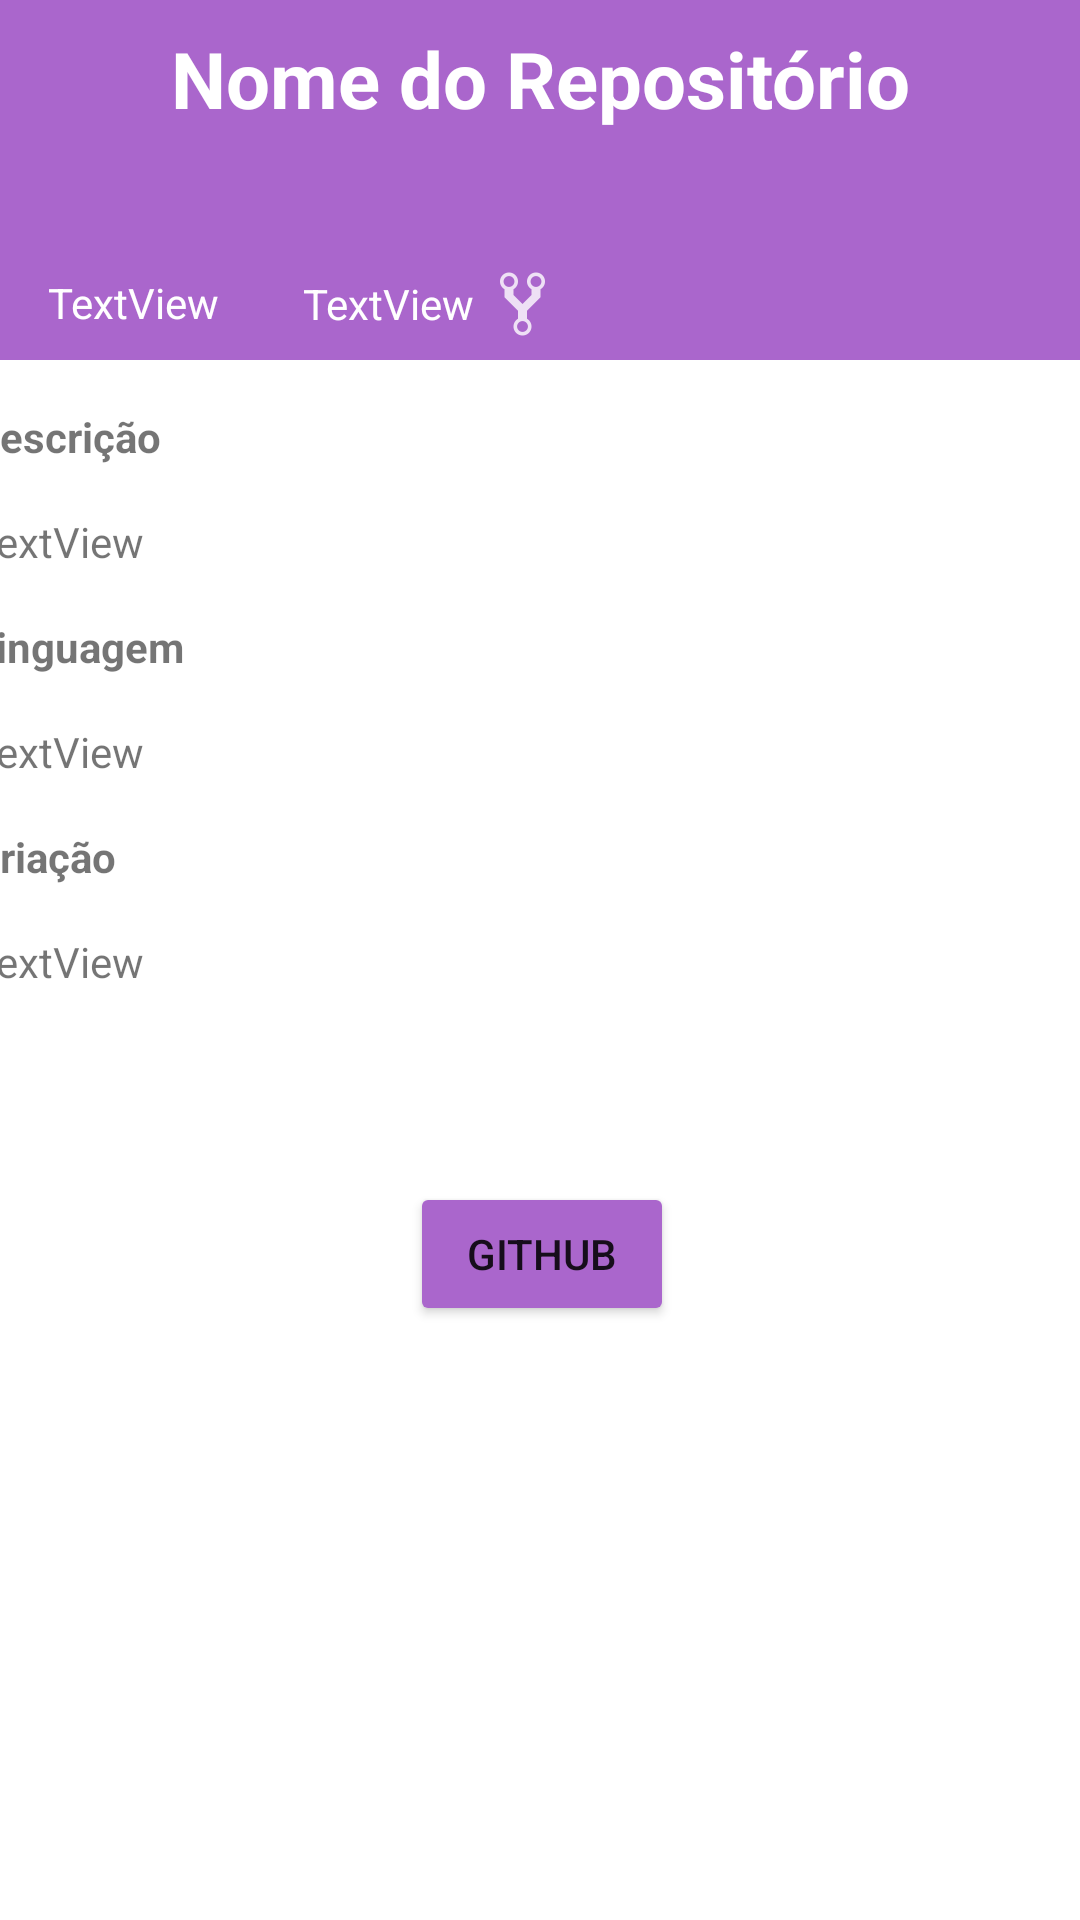

Screen size 1080w x 1920h. Icon name, then its center in pixels as point (x, y):
fork: point (522, 304)
